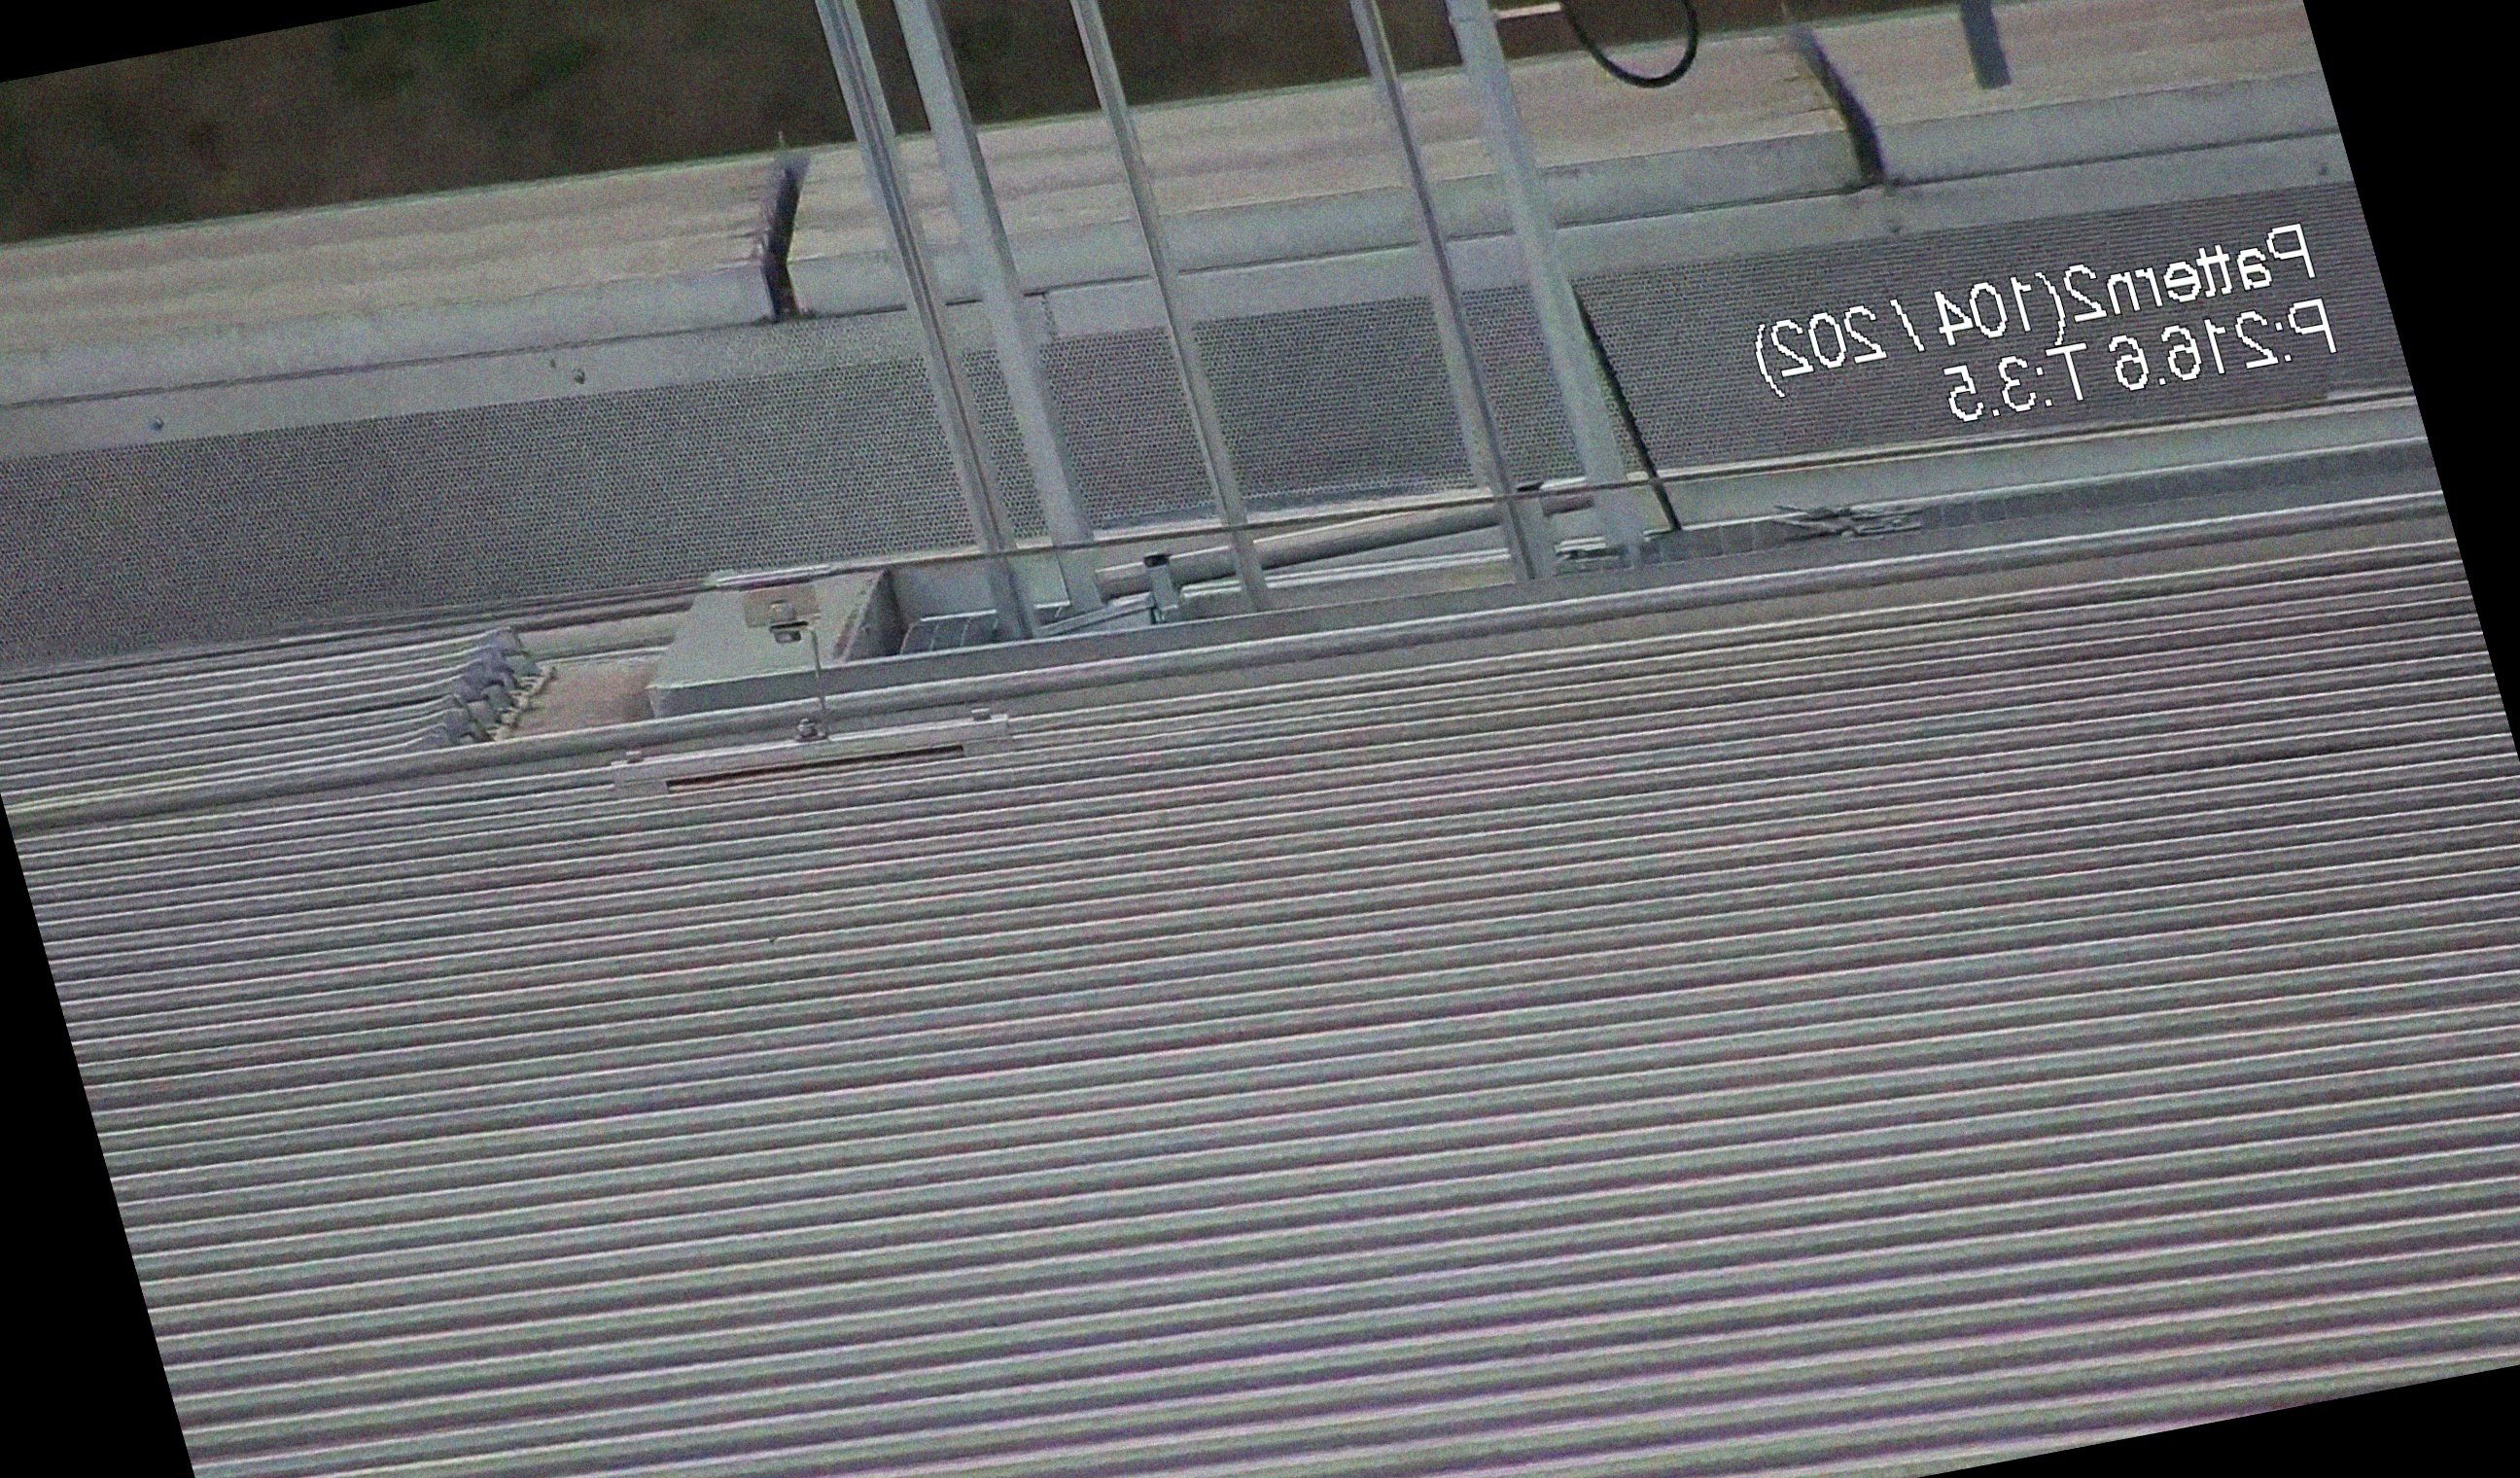Other: (691, 125, 862, 334)
